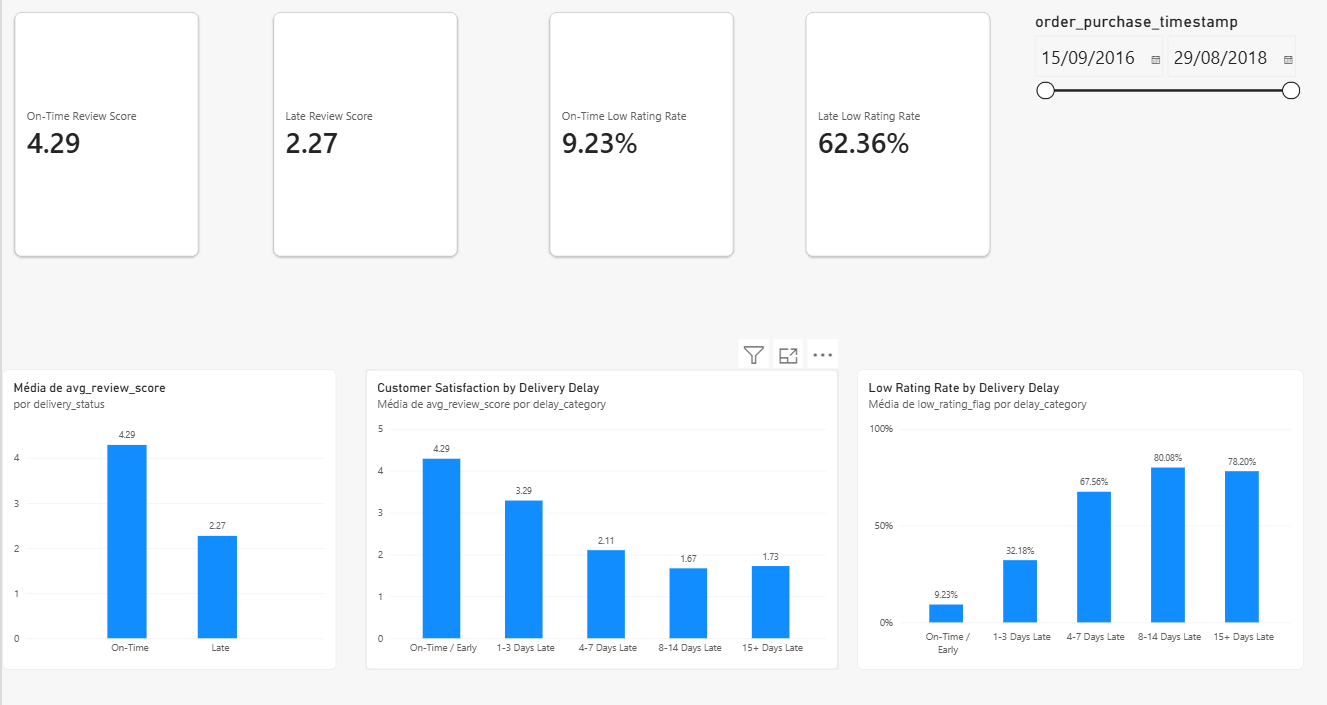

The dashboard page shown, as its layout file describes it:
{"tool":"powerbi","page":{"name":"Customer Satisfaction","canvas":[1920,1080],"ordinal":2},"visuals":[{"type":"cardVisual","fields":{"Data":["orders_dashboard.On-Time Review Score"]},"box":[18.5,37,267.6,354],"z":0},{"type":"cardVisual","fields":{"Data":["orders_dashboard.Late Review Score"]},"box":[393.1,37,267.6,354],"z":1},{"type":"cardVisual","fields":{"Data":["orders_dashboard.On-Time Low Rating Rate"]},"box":[792.5,37,267.6,354],"z":2},{"type":"cardVisual","fields":{"Data":["orders_dashboard.Late Low Rating Rate"]},"box":[1163,37,267.6,354],"z":3},{"type":"clusteredColumnChart","fields":{"Category":["orders_dashboard.delivery_status"],"Y":["Avg(orders_dashboard.avg_review_score)"]},"box":[0,553.7,483.7,434.3],"z":4},{"type":"clusteredColumnChart","title":"Customer Satisfaction by Delivery Delay","fields":{"Category":["orders_dashboard.delay_category"],"Y":["Avg(orders_dashboard.avg_review_score)"]},"box":[526.9,553.7,683.4,434.3],"z":5},{"type":"clusteredColumnChart","title":"Low Rating Rate by Delivery Delay","fields":{"Category":["orders_dashboard.delay_category"],"Y":["Avg(orders_dashboard.low_rating_flag)"]},"box":[1237.1,553.7,646.3,434.3],"z":6},{"type":"slicer","fields":{"Values":["orders_dashboard.order_purchase_timestamp"]},"box":[1486.7,36.3,395,259],"z":7}]}

Visuals, with their boxes on the page's 1920x1080 design canvas (x1, y1, x2, y2). These are canvas units, not pixel positions in the 1327x705 screenshot, which may show the page scaled, cropped or inside an application window:
cardVisual - orders_dashboard.On-Time Review Score: bbox=(18, 37, 286, 391)
cardVisual - orders_dashboard.Late Review Score: bbox=(393, 37, 661, 391)
cardVisual - orders_dashboard.On-Time Low Rating Rate: bbox=(792, 37, 1060, 391)
cardVisual - orders_dashboard.Late Low Rating Rate: bbox=(1163, 37, 1431, 391)
clusteredColumnChart - orders_dashboard.delivery_status x Avg(orders_dashboard.avg_review_score): bbox=(0, 554, 484, 988)
"Customer Satisfaction by Delivery Delay" clusteredColumnChart: bbox=(527, 554, 1210, 988)
"Low Rating Rate by Delivery Delay" clusteredColumnChart: bbox=(1237, 554, 1883, 988)
slicer - orders_dashboard.order_purchase_timestamp: bbox=(1487, 36, 1882, 295)
